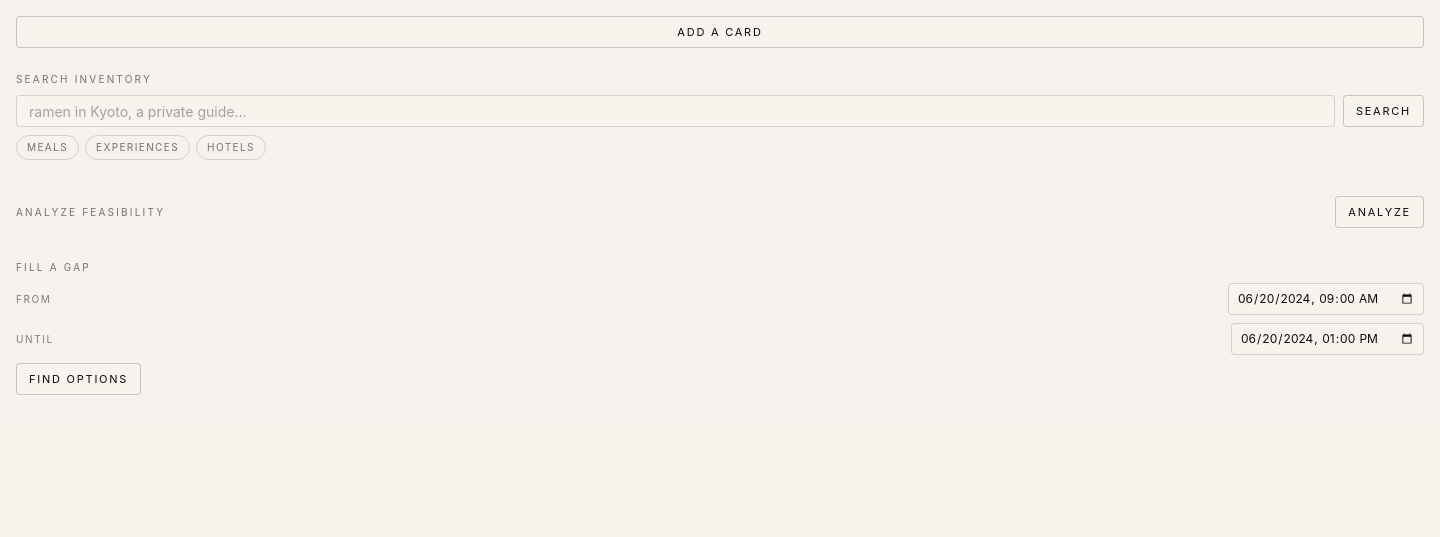
Test: AuthoringPanel › search runs and renders a result with an enabled Add when locked
Type "sushi" into the field with test id "itinerary-graph-search-input".
click(675, 111); type("sushi")  # box x1=16 y1=95 x2=1335 y2=127
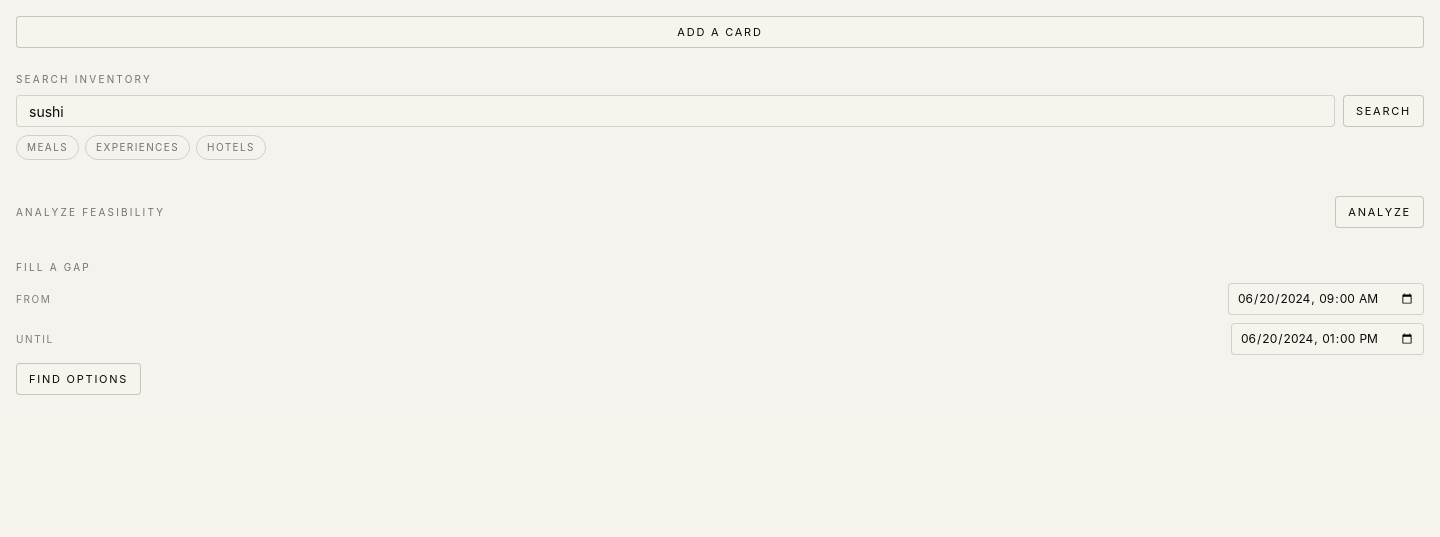
Click the button with test id "itinerary-graph-search-run".
click(1383, 111)  # box x1=1343 y1=95 x2=1424 y2=127
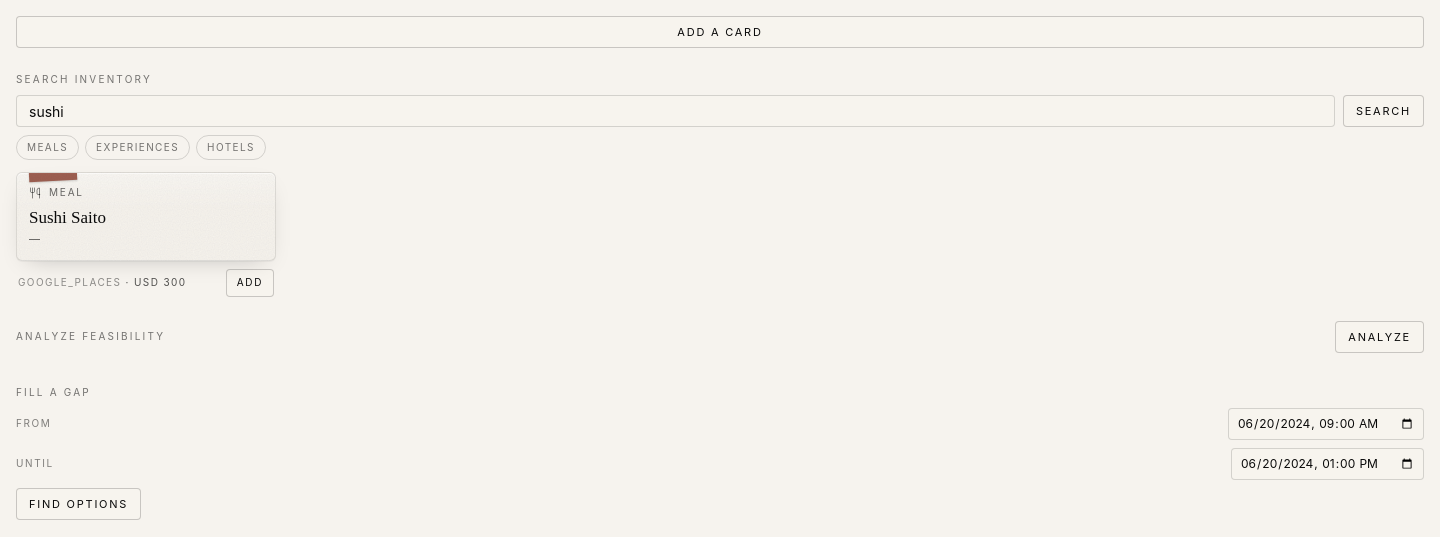
Now the heading "Sushi Saito" is shown, box x1=29 y1=208 x2=106 y2=227
Now the button with test id "itinerary-graph-search-add" is enabled, box x1=226 y1=269 x2=274 y2=297
